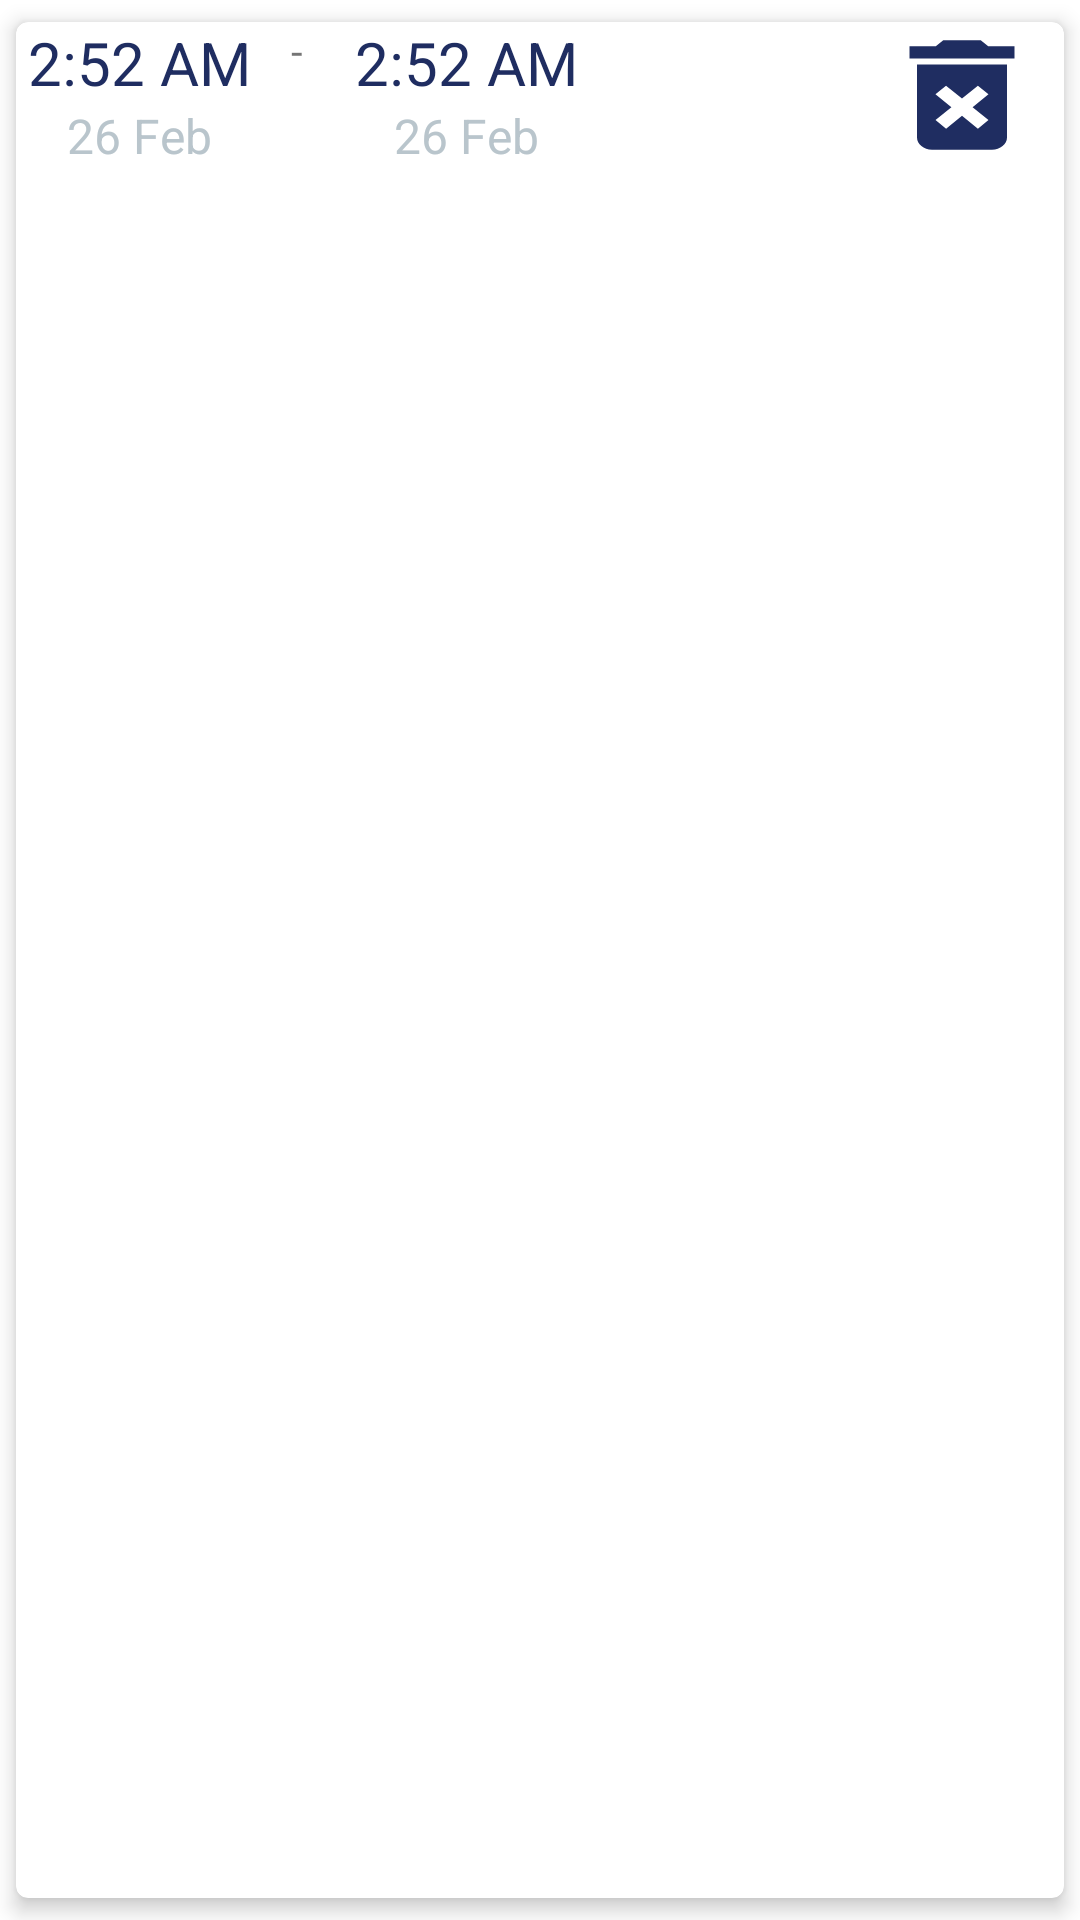

Icons on this 1080px x 1920px Android screen, each with the point to tap as (x,y):
delete forever: (962,95)
